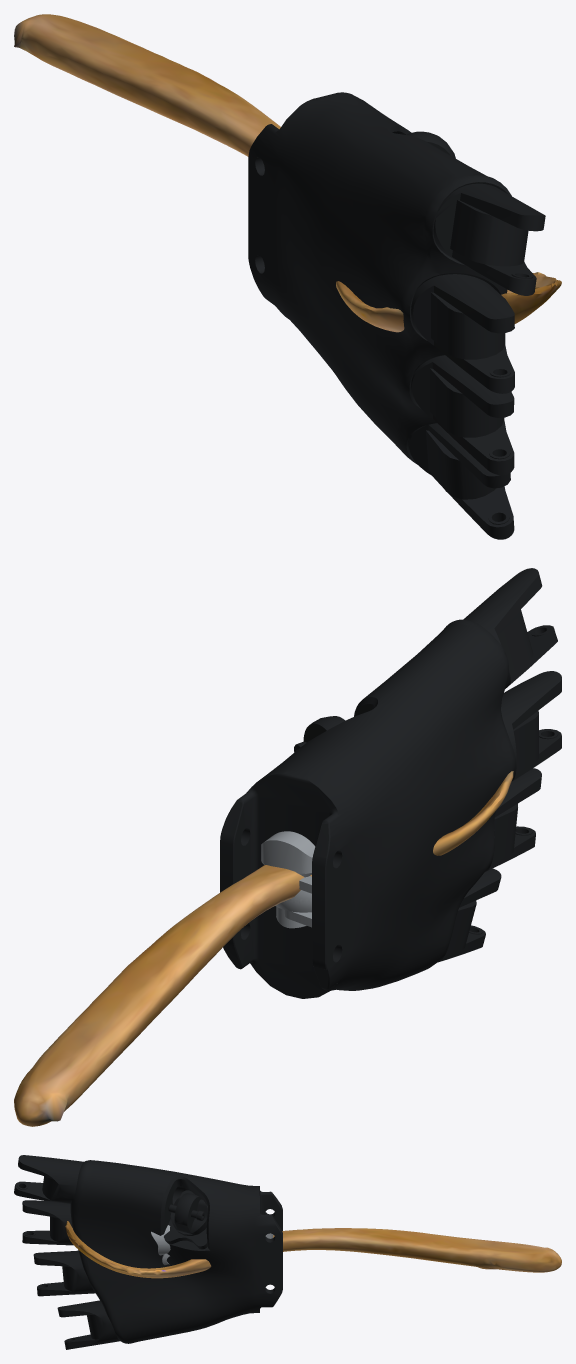
File: spoon.glb
The picture shows the model from 3 angles, top to bottom: view 1: azimuth 30°, elevation 25°; view 2: azimuth 150°, elevation 25°; view 3: azimuth 270°, elevation 25°; orthographic projection. The views are drawn at different scales.
Parts seen in each view (by area): view 1: b_0_0, o_0_0; view 2: b_0_0, o_0_0, b_6_7; view 3: b_0_0, o_0_0.
Boxes of the visible parts, box(x1,y1,x2,y2) form: b_0_0: box(248, 92, 545, 539); o_0_0: box(14, 14, 561, 332); b_0_0: box(220, 568, 561, 998); o_0_0: box(14, 771, 513, 1126); b_6_7: box(261, 831, 311, 877); b_0_0: box(14, 1155, 282, 1349); o_0_0: box(65, 1221, 561, 1278).
Bounding box in the file's own units: 0.0414 × 0.0811 × 0.2135.
